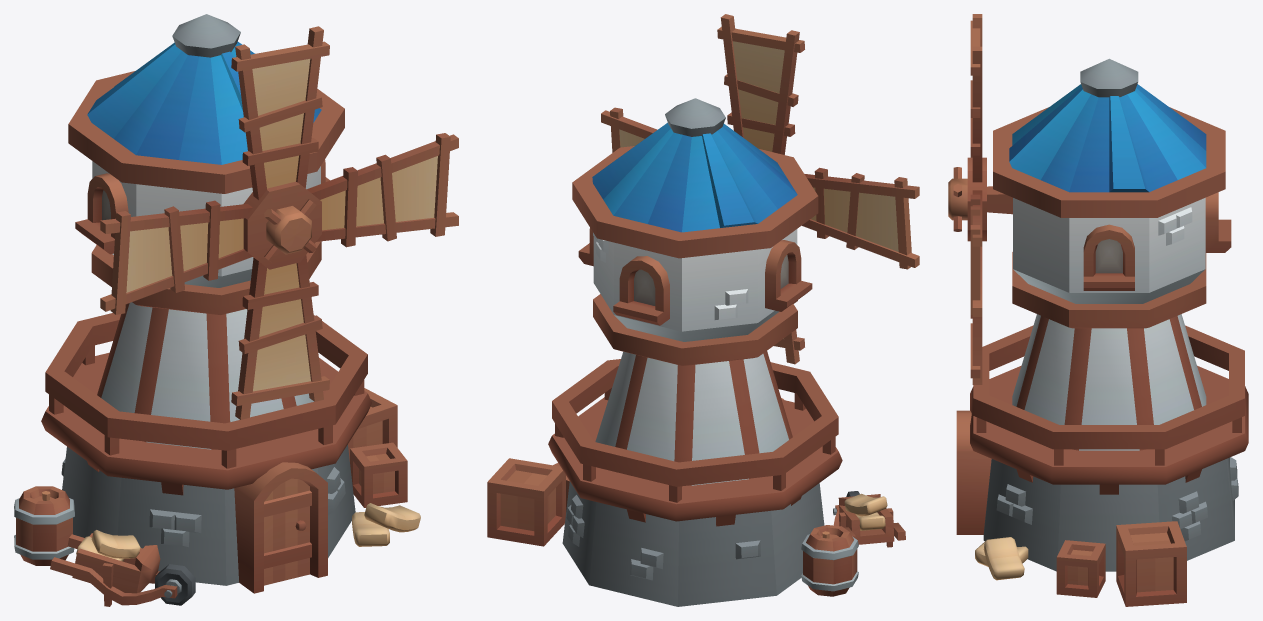
Rendered from building_windmill_blue.gltf.
3 renders of one model, left to right at view 1: azimuth 30°, elevation 25°; view 2: azimuth 150°, elevation 25°; view 3: azimuth 270°, elevation 25°, orthographic. The views are drawn at different scales.
Parts seen in each view (by area): view 1: building_windmill_blue, building_windmill_top_fan_blue, building_windmill_top_blue; view 2: building_windmill_blue, building_windmill_top_blue, building_windmill_top_fan_blue; view 3: building_windmill_blue, building_windmill_top_blue, building_windmill_top_fan_blue.
Part boxes in pixels (x1,y1,x2,y2): building_windmill_blue: [14, 302, 420, 606]; building_windmill_top_fan_blue: [100, 26, 458, 419]; building_windmill_top_blue: [68, 14, 344, 314]; building_windmill_blue: [487, 351, 905, 606]; building_windmill_top_blue: [572, 98, 818, 365]; building_windmill_top_fan_blue: [601, 14, 919, 364]; building_windmill_blue: [956, 314, 1248, 606]; building_windmill_top_blue: [987, 58, 1231, 328]; building_windmill_top_fan_blue: [948, 14, 986, 384].
Bounding box in the file's own units: 1.13 × 1.46 × 0.8165.
1 material, 1 textured.
